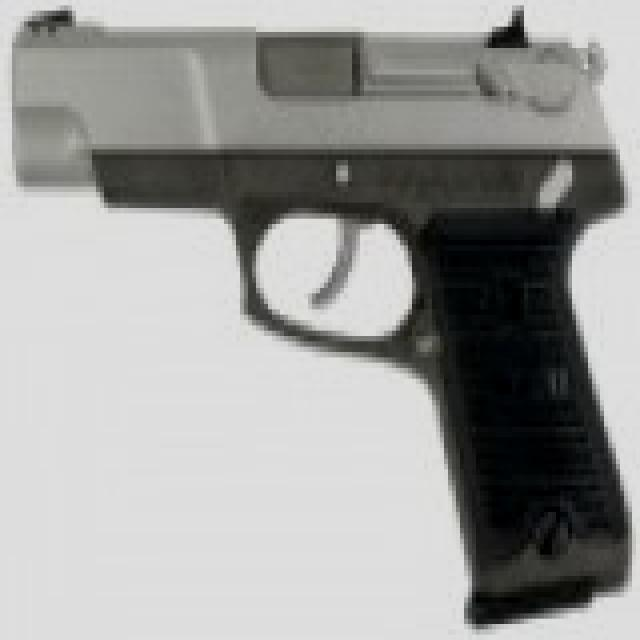pistol: (16, 0, 620, 597)
